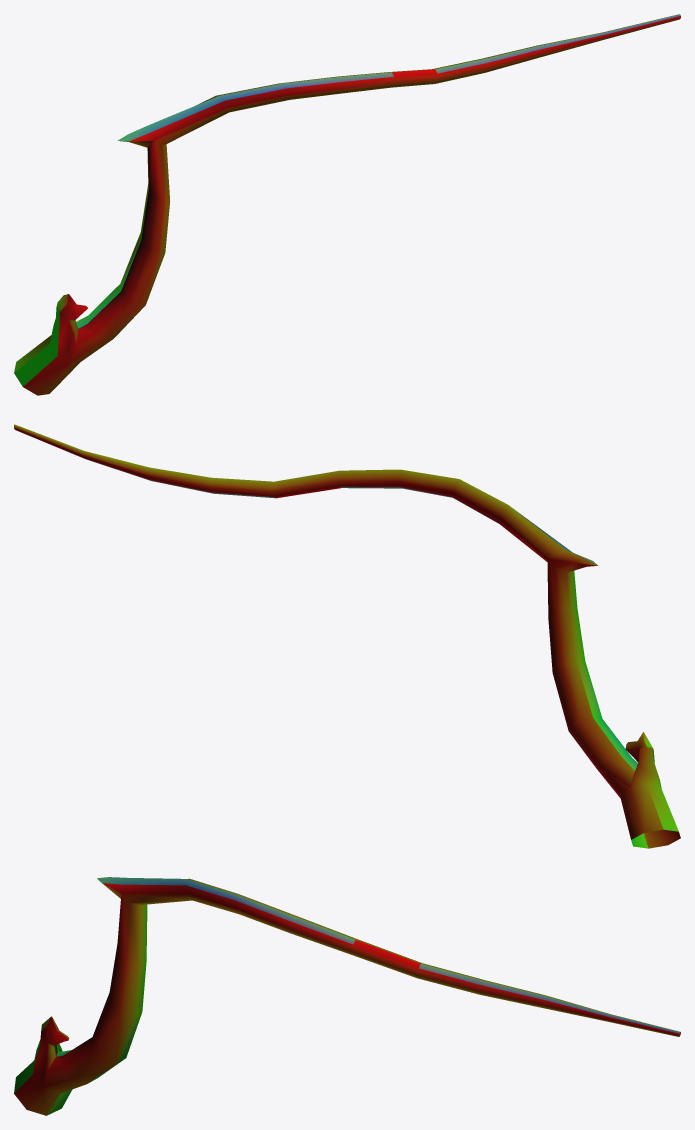
File: uni_angel_wing.fbx
3 views of the same model, one above another, from view 1: azimuth 30°, elevation 25°; view 2: azimuth 150°, elevation 25°; view 3: azimuth 330°, elevation 25° (orthographic). The views are drawn at different scales.
Visible parts, largest first — view 1: uni_angel_wing; view 2: uni_angel_wing; view 3: uni_angel_wing.
Part boxes in pixels (x1,y1,x2,y2): uni_angel_wing: (14, 14, 680, 395); uni_angel_wing: (14, 424, 680, 848); uni_angel_wing: (14, 877, 680, 1115).
Size of the model in its own units: 1869 by 15655 by 6466.
